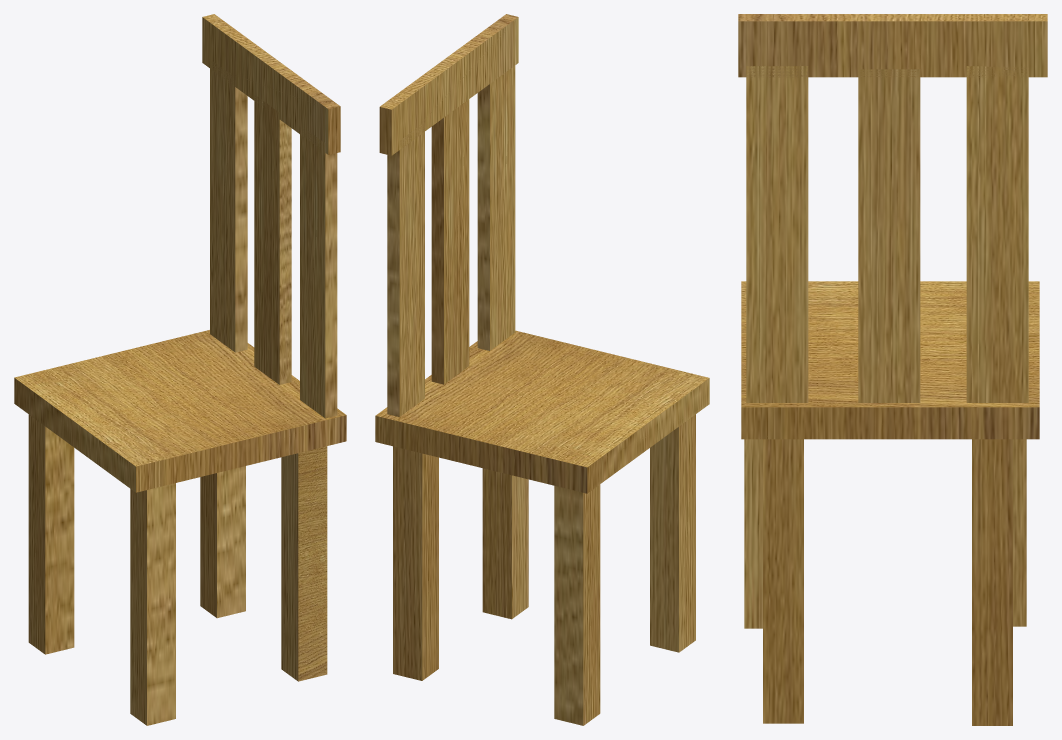
File: chair.dae
3 views of the same model, side by side, from view 1: azimuth 30°, elevation 25°; view 2: azimuth 150°, elevation 25°; view 3: azimuth 270°, elevation 25° (orthographic). The views are drawn at different scales.
Parts seen in each view (by area): view 1: chair; view 2: chair; view 3: chair.
Part boxes in pixels (<box>): chair: <box>14,14,346,725</box>; chair: <box>375,14,709,725</box>; chair: <box>738,14,1047,725</box>.
Bounding box in the file's own units: 2.45 × 2.54 × 6.37.
Materials: 1 (1 with a texture image).
